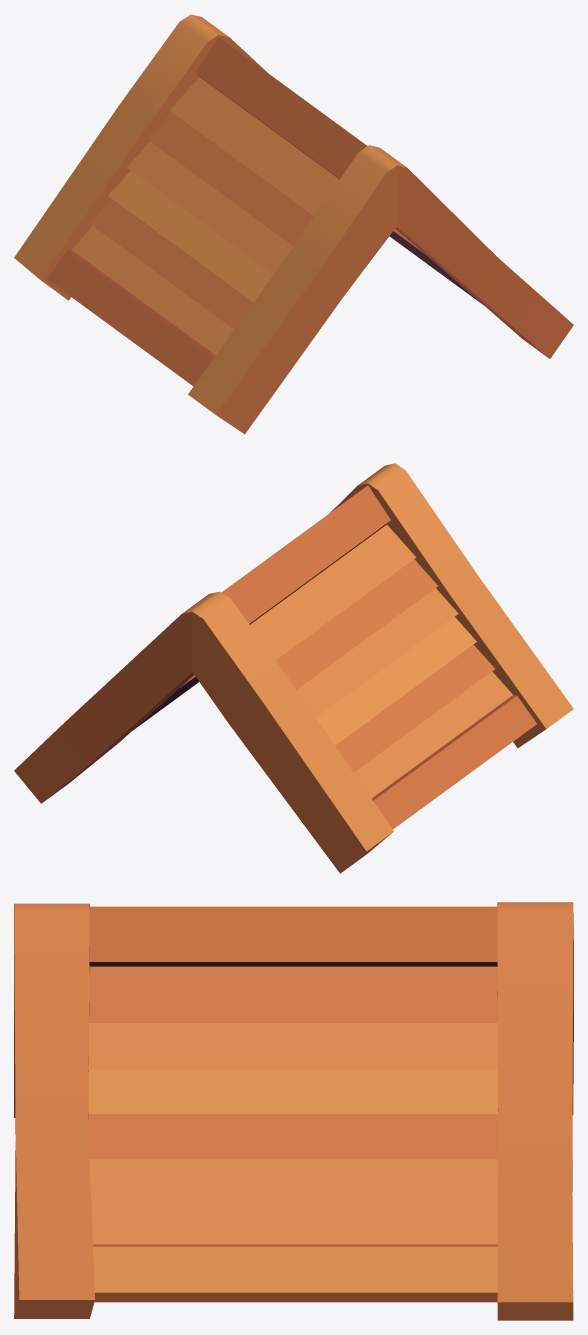
The model's file is Roof03_Wood.glb.
3 views of the same model, one above another, from view 1: azimuth 30°, elevation 25°; view 2: azimuth 150°, elevation 25°; view 3: azimuth 270°, elevation 25° (orthographic). The views are drawn at different scales.
Parts seen in each view (by area): view 1: Roof03_Wood; view 2: Roof03_Wood; view 3: Roof03_Wood.
Part boxes in pixels (left/top/right/bottom): Roof03_Wood: left=14, top=14, right=573, bottom=434; Roof03_Wood: left=14, top=463, right=573, bottom=873; Roof03_Wood: left=14, top=902, right=573, bottom=1320.
Size of the model in its own units: 2.41 by 1.48 by 2.38.
1 material, 1 textured.
